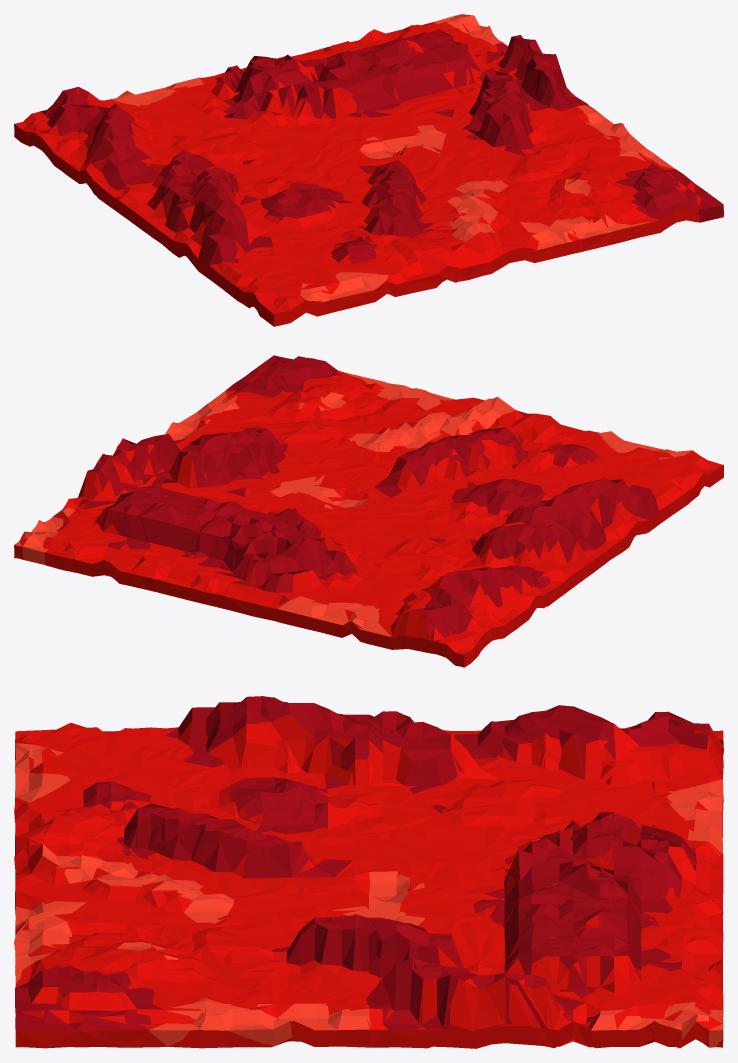
Rendered from MarsTerrain.fbx.
The picture shows the model from 3 angles, top to bottom: view 1: azimuth 30°, elevation 25°; view 2: azimuth 150°, elevation 25°; view 3: azimuth 270°, elevation 25°; orthographic projection. The views are drawn at different scales.
Parts seen in each view (by area): view 1: Plane; view 2: Plane; view 3: Plane.
Boxes of the visible parts, x1,y1,x2,y2 form: Plane: (14,14,723,326); Plane: (14,355,723,667); Plane: (14,696,723,1048).
Size of the model in its own units: 4586 by 550 by 4591.
